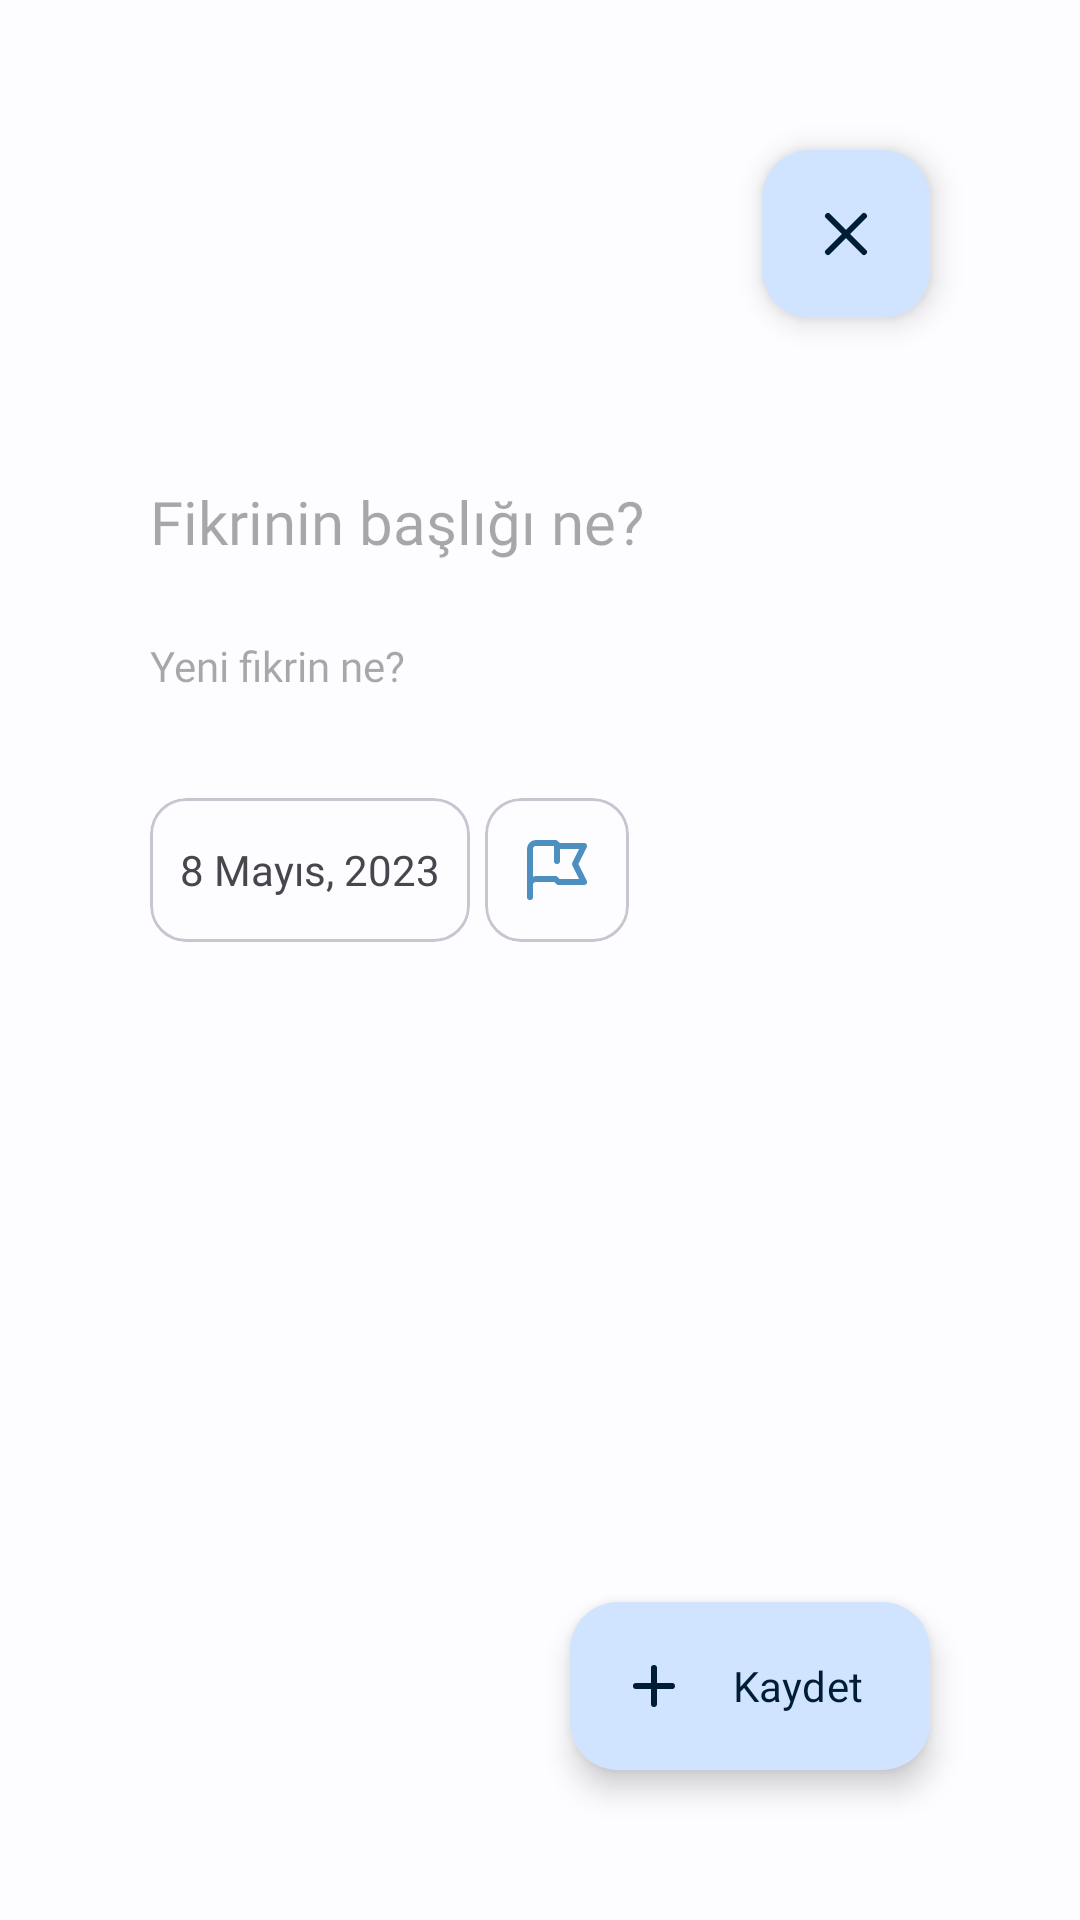

Point at icon controls on the screen. Image size 1080 × 1920, points as [x,y].
close: [846,234]
flag button: [557,870]
